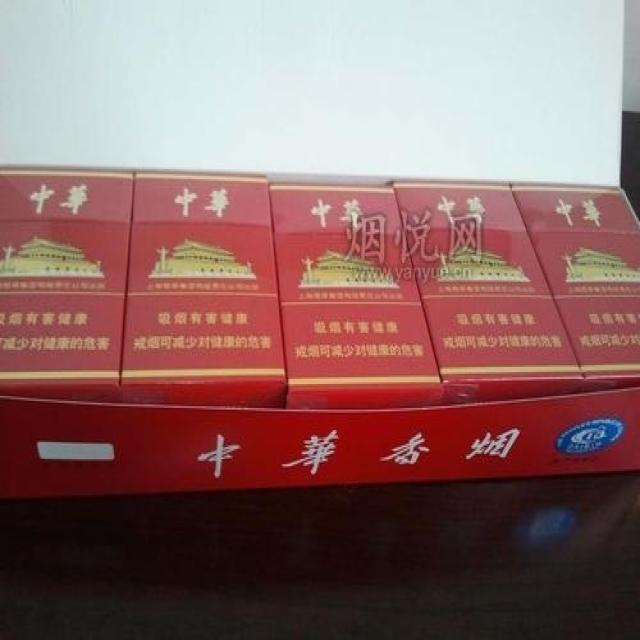box: (393, 183, 585, 404), (118, 172, 287, 408), (269, 184, 442, 408), (0, 169, 136, 403), (509, 184, 639, 396)
